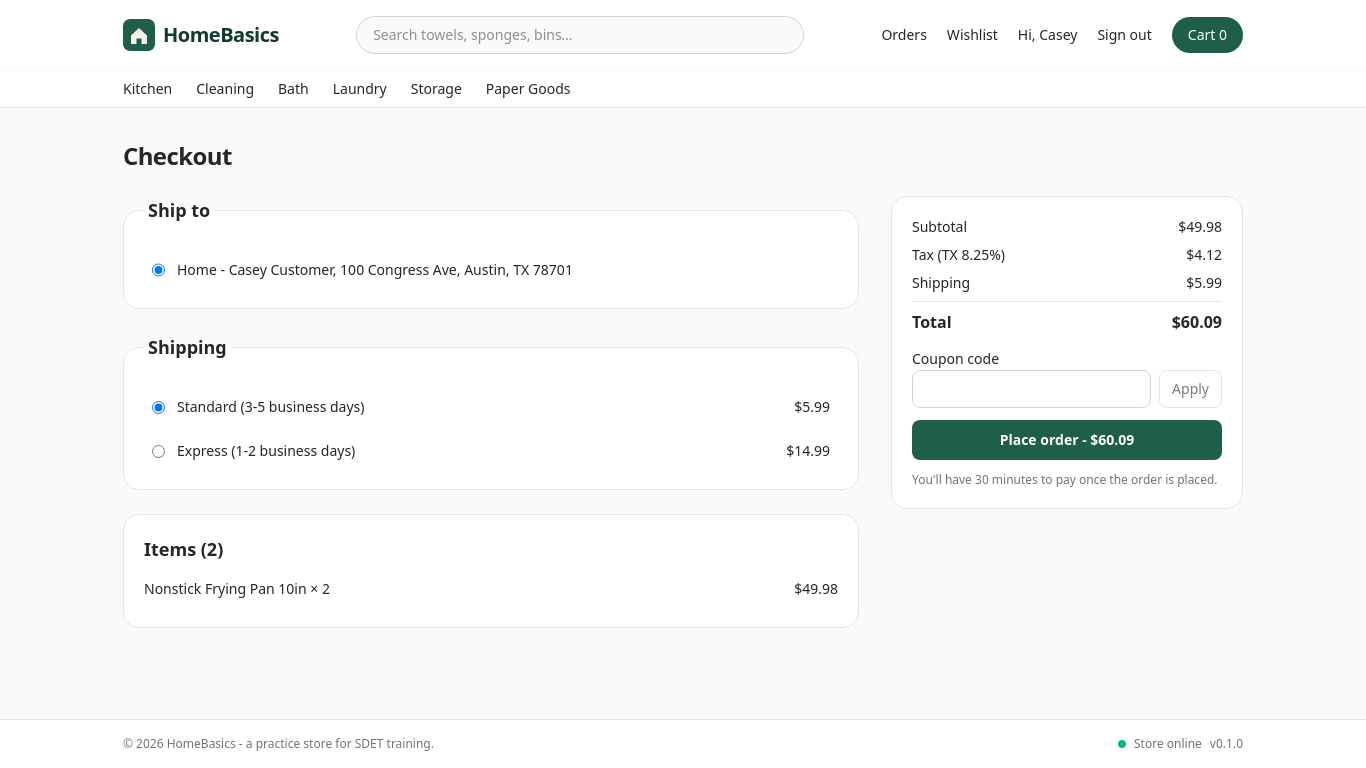
Test: Checkout coupons (CPN) › removing the code re-quotes without it
The width and height of the screenshot is (1366, 768).
Type "WELCOME10" into the field with test id "coupon-input" at (1032, 389), box [912,370,1151,408]
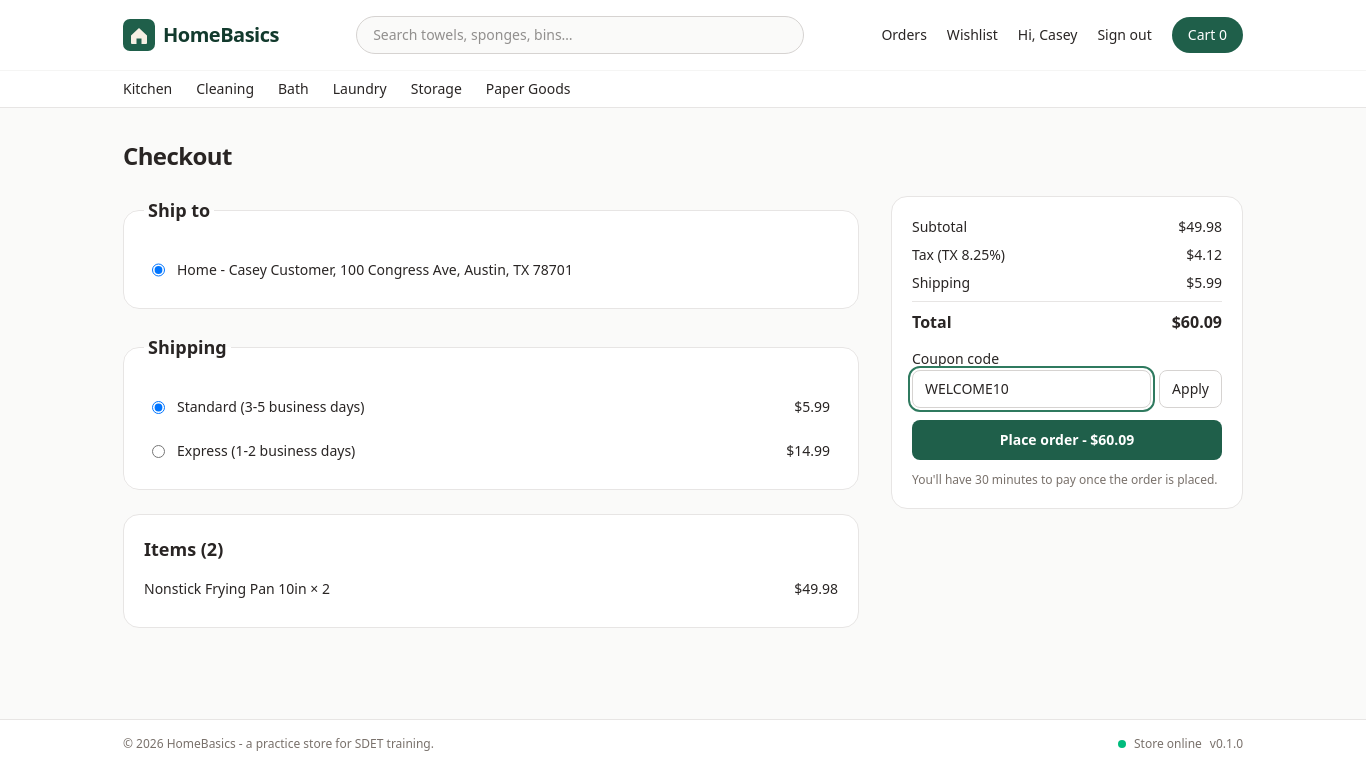
Click the button with test id "coupon-apply" at (1191, 389), box [1159,370,1222,408]
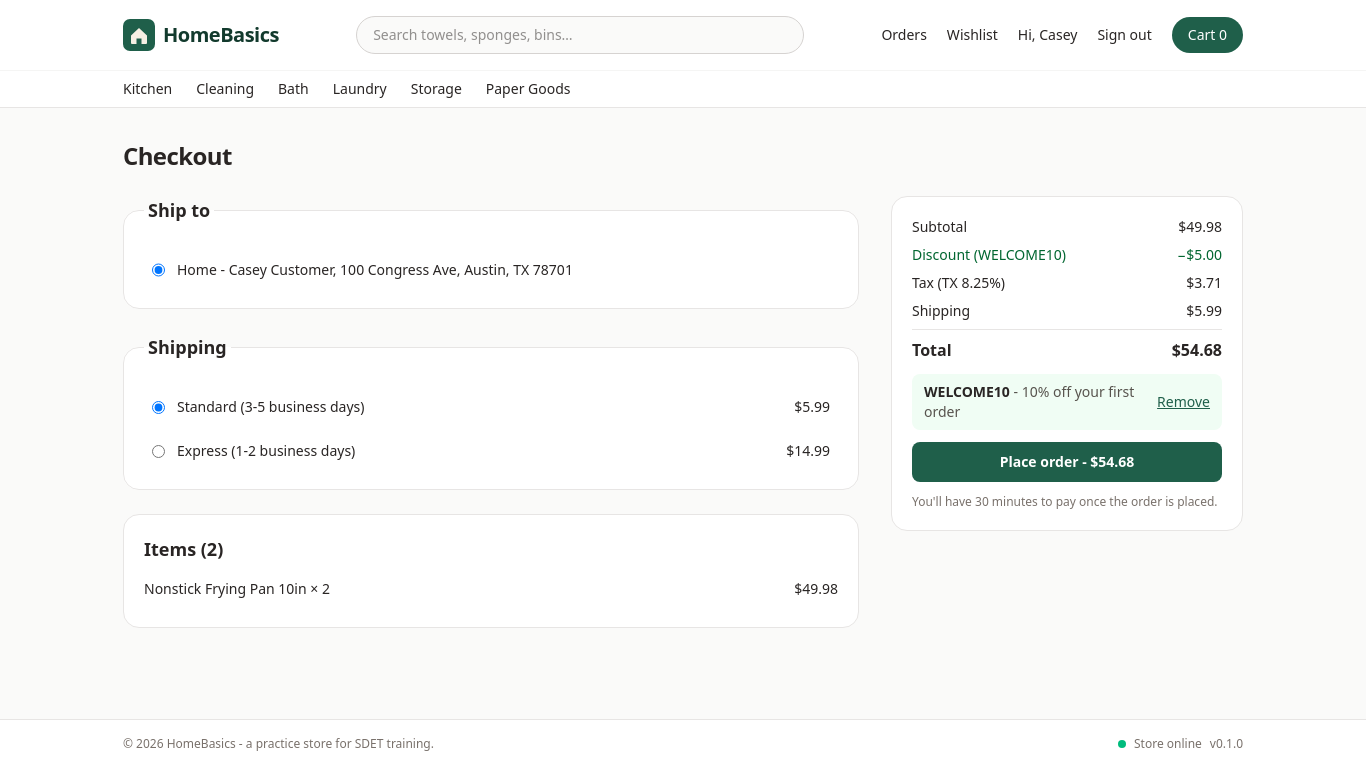
Click the button with test id "coupon-remove" at (1184, 402), box [1157,392,1210,412]
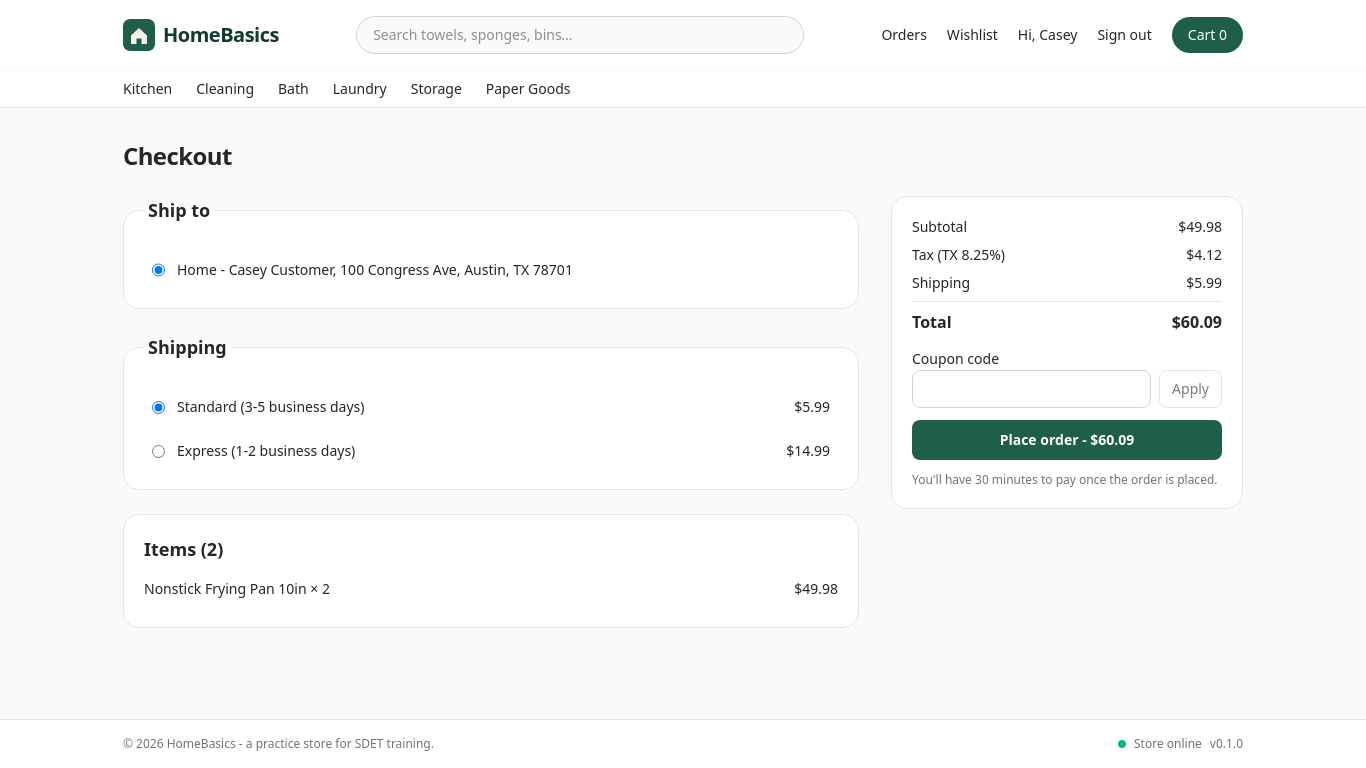
Expected: the text with test id "summary-total" reads "$60.09", [1172,311,1222,333]
Expected: the field with test id "coupon-input" is shown, [912,370,1151,408]
